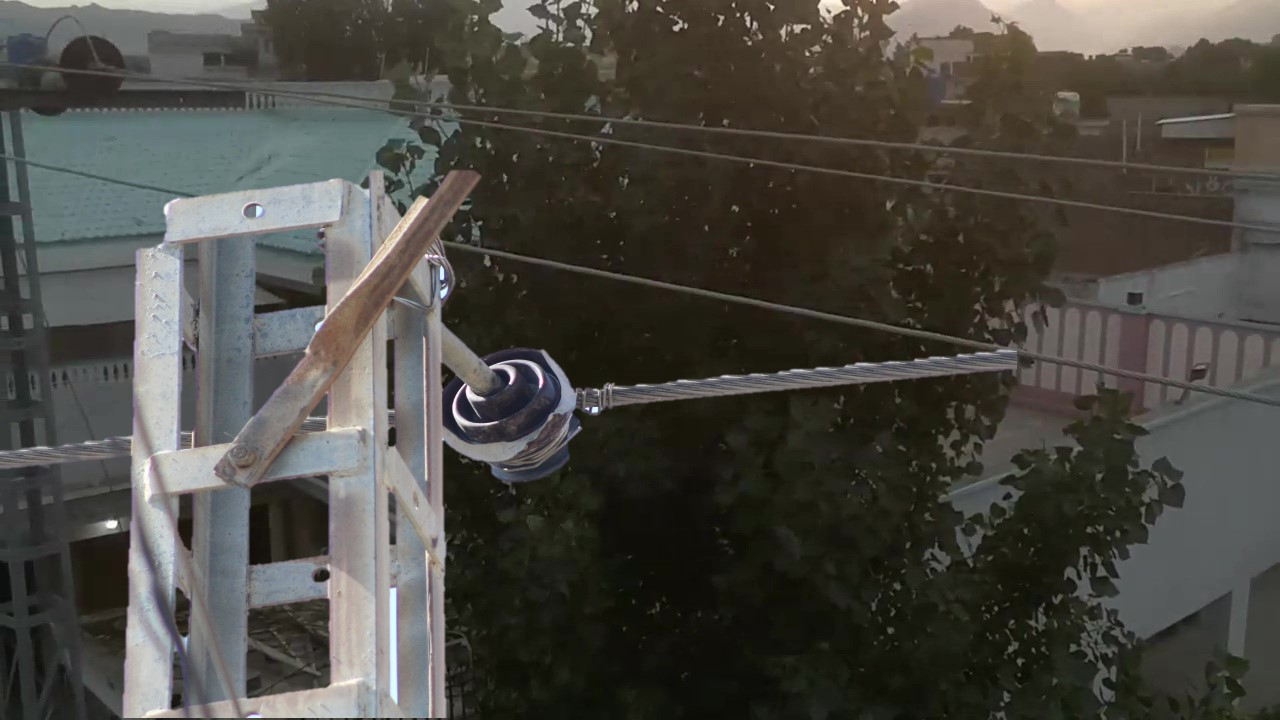defect_pin: (445, 337, 593, 497)
